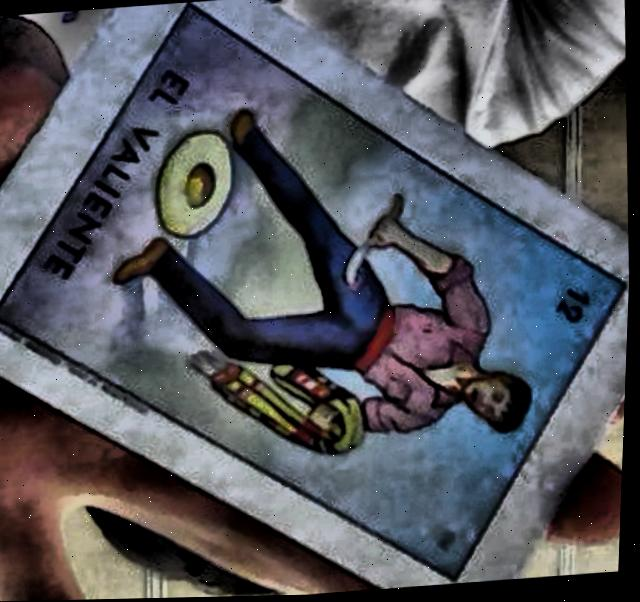El Valiente: (0, 4, 624, 584)
